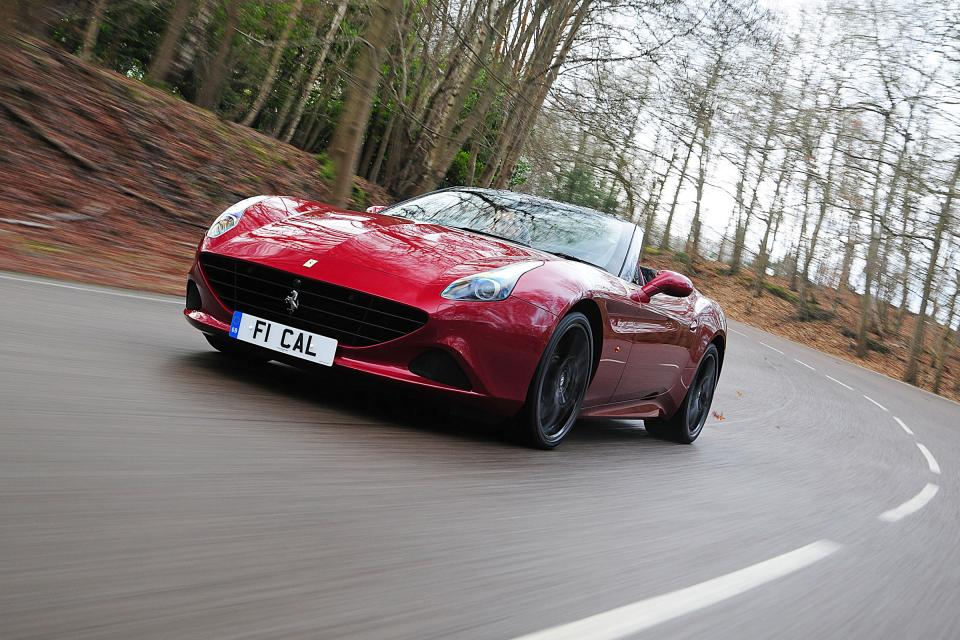number_plate: (226, 303, 342, 371)
